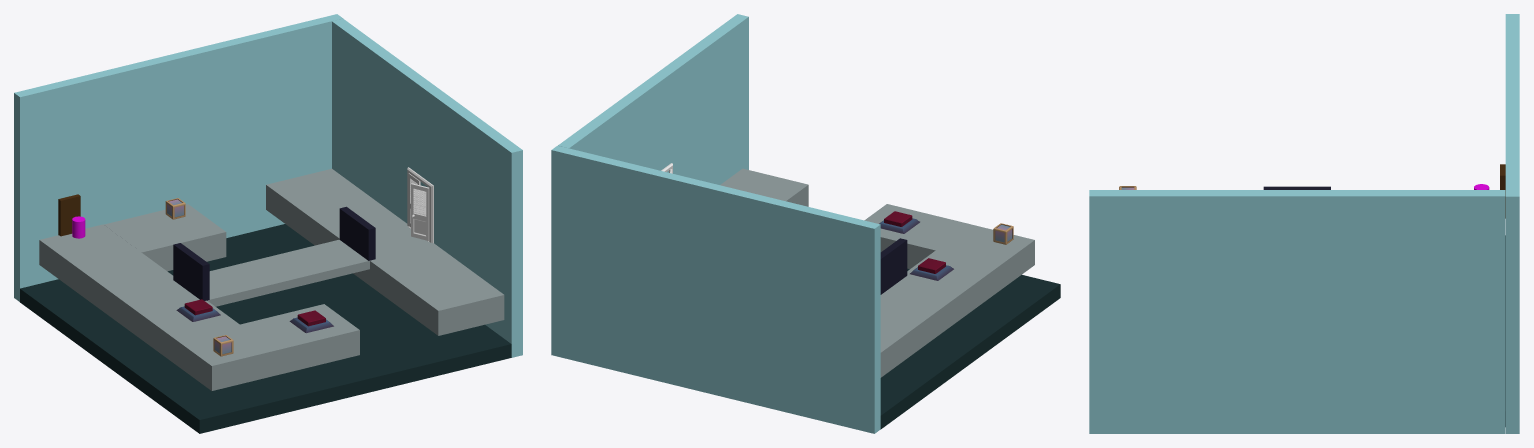
File: Level[Pads-n-Walls].fbx
3 renders of one model, left to right at view 1: azimuth 30°, elevation 25°; view 2: azimuth 150°, elevation 25°; view 3: azimuth 270°, elevation 25°, orthographic. The views are drawn at different scales.
Visible parts, largest first — view 1: wall2, voidWall, wall1, platform4, platform1, bridge, platform3, platform, door, drawWall, drawWall1, entrance (+2 smaller); view 2: wall2, wall1, platform4, voidWall, platform3, platform1, drawWall, pPad1, pPad; view 3: wall1, wall2.
Part boxes in pixels (x1=…): wall2: x1=14, y1=14, x2=342, y2=301; voidWall: x1=20, y1=224, x2=511, y2=433; wall1: x1=332, y1=18, x2=522, y2=357; platform4: x1=39, y1=224, x2=275, y2=390; platform1: x1=266, y1=168, x2=504, y2=335; bridge: x1=208, y1=239, x2=369, y2=306; platform3: x1=240, y1=304, x2=359, y2=375; platform: x1=104, y1=204, x2=226, y2=271; door: x1=407, y1=167, x2=433, y2=243; drawWall: x1=173, y1=243, x2=209, y2=300; drawWall1: x1=339, y1=206, x2=375, y2=260; entrance: x1=58, y1=194, x2=80, y2=236; wall2: x1=551, y1=145, x2=880, y2=433; wall1: x1=558, y1=14, x2=748, y2=184; platform4: x1=880, y1=224, x2=1034, y2=377; voidWall: x1=880, y1=268, x2=1060, y2=429; platform3: x1=864, y1=204, x2=970, y2=268; platform1: x1=720, y1=168, x2=808, y2=206; drawWall: x1=880, y1=238, x2=907, y2=294; pPad1: x1=910, y1=258, x2=953, y2=280; pPad: x1=879, y1=211, x2=919, y2=233; wall1: x1=1089, y1=190, x2=1505, y2=433; wall2: x1=1505, y1=14, x2=1519, y2=433.
Bounding box in the file's own units: 24.68 × 14.96 × 24.58.
